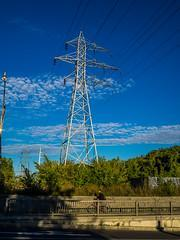power_tower: (48, 28, 113, 173)
